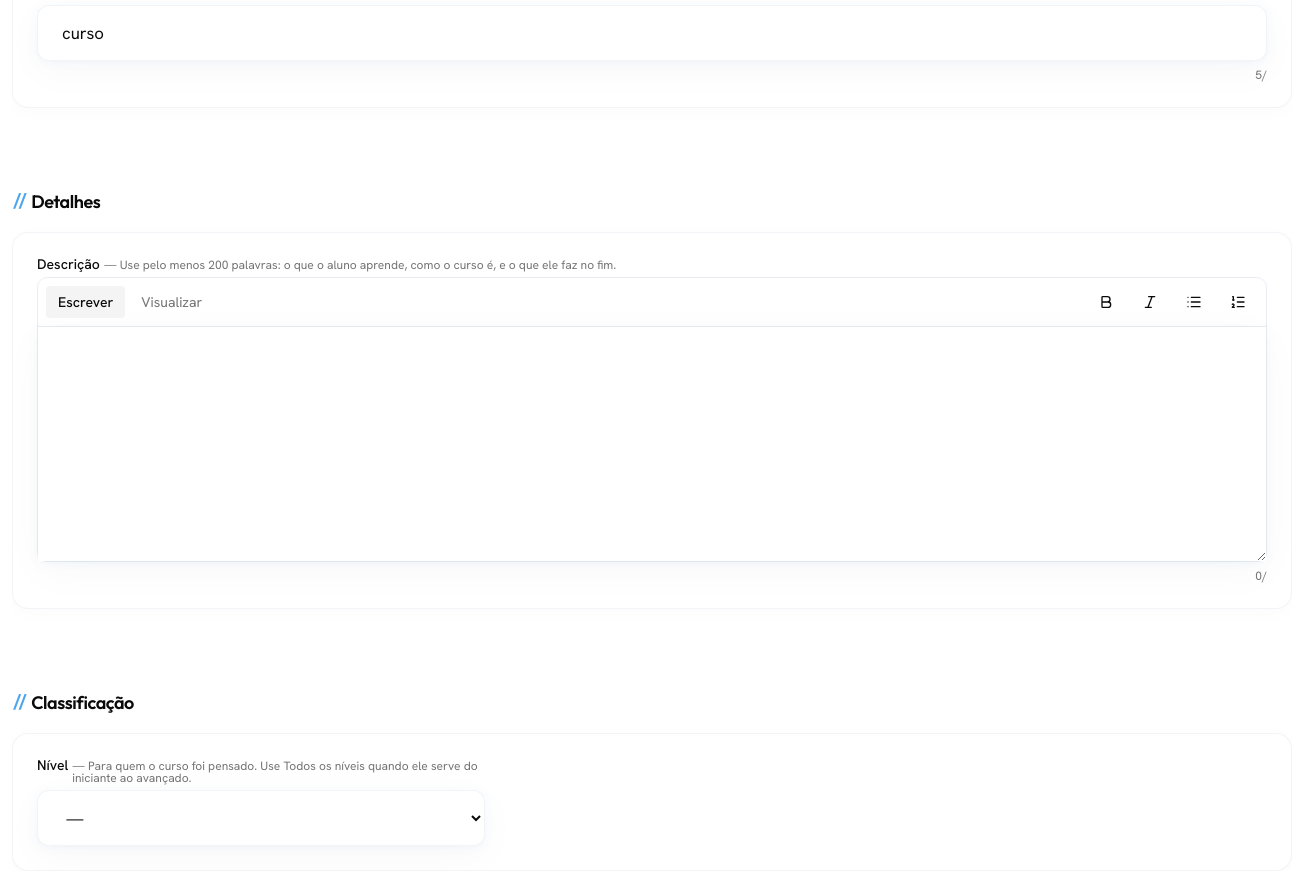
Test case: botões da descrição › sem nada selecionado, Negrito deixa o cursor entre as marcas
(page scrolled)
In the text box labelled "Descrição": point(652, 444) [38,327,1266,560], type "Oi "
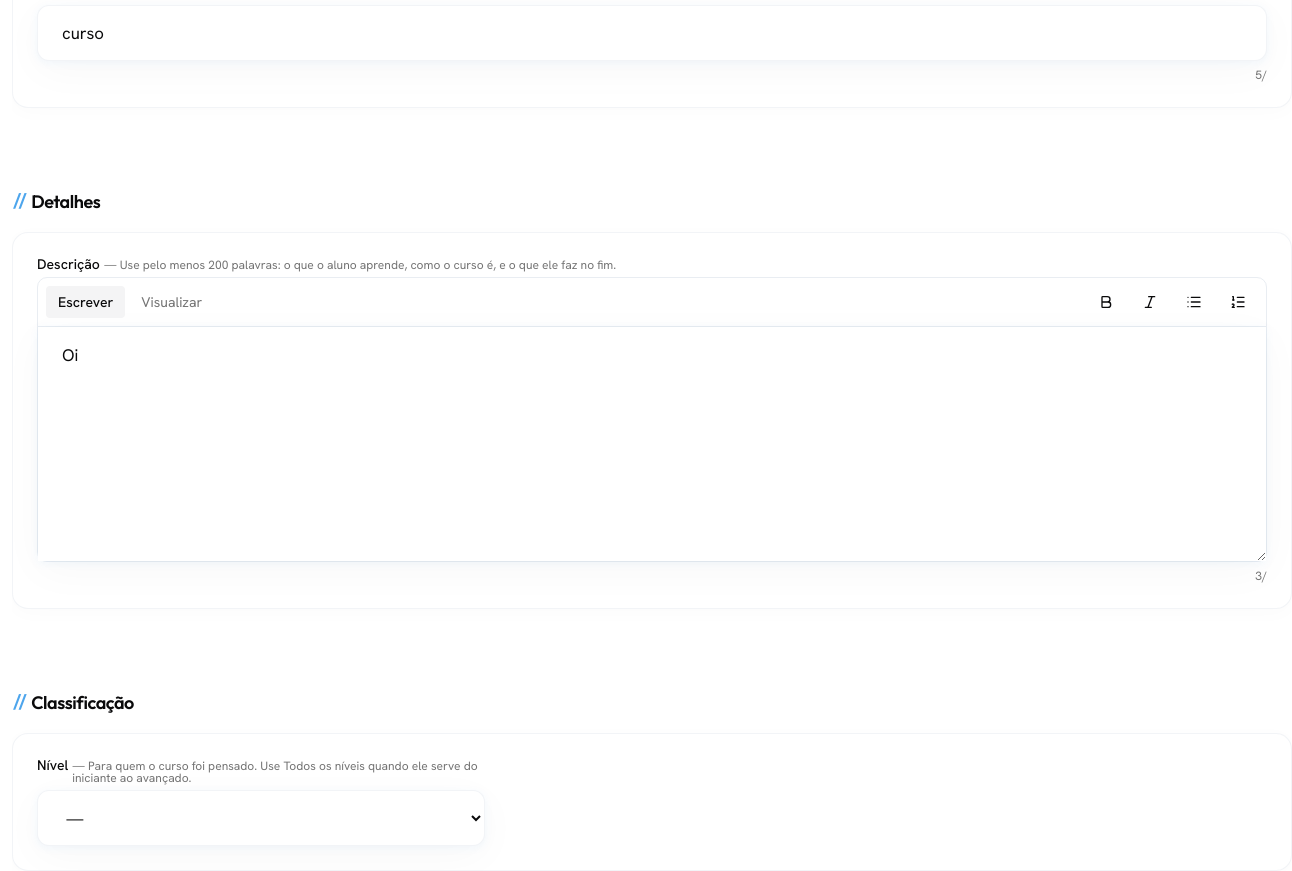
Click the button named "Negrito": point(1106, 302) [1086,282,1126,322]
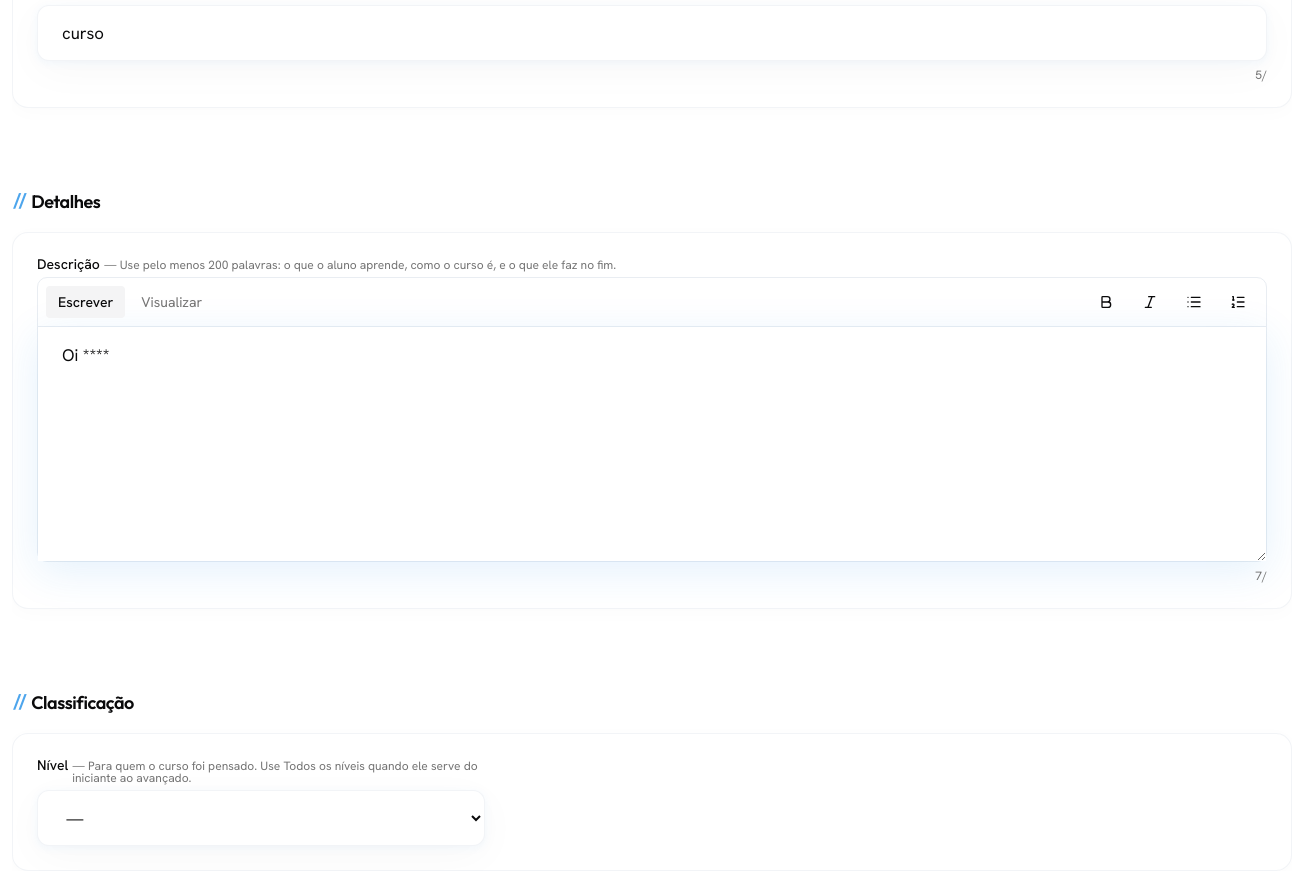
Check: the text box labelled "Descrição" holds "Oi ****", box [38,327,1266,560]
